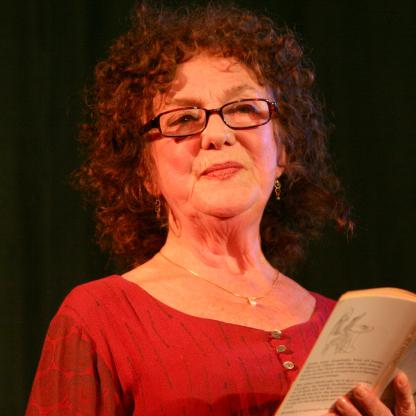book: (273, 285, 416, 416)
